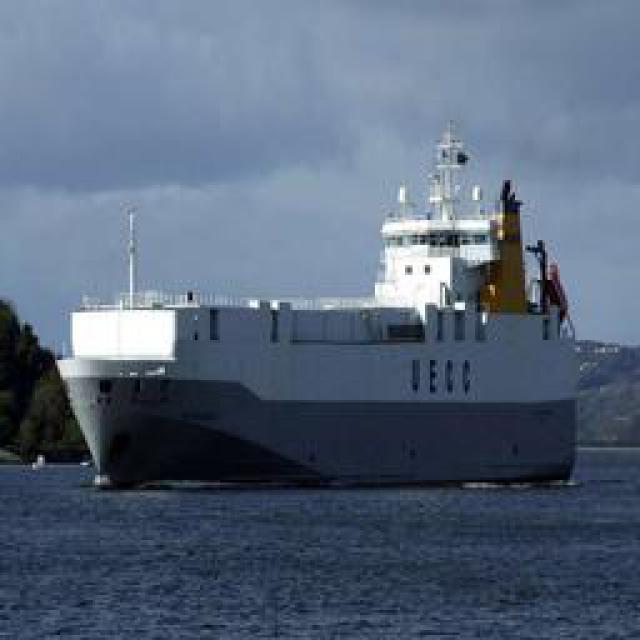Ship: (44, 116, 597, 497)
